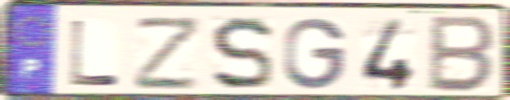4: (358, 16, 417, 93)
B: (424, 13, 498, 96)
G: (281, 16, 349, 92)
L: (68, 18, 122, 88)
S: (208, 14, 276, 93)
Z: (134, 15, 204, 92)
